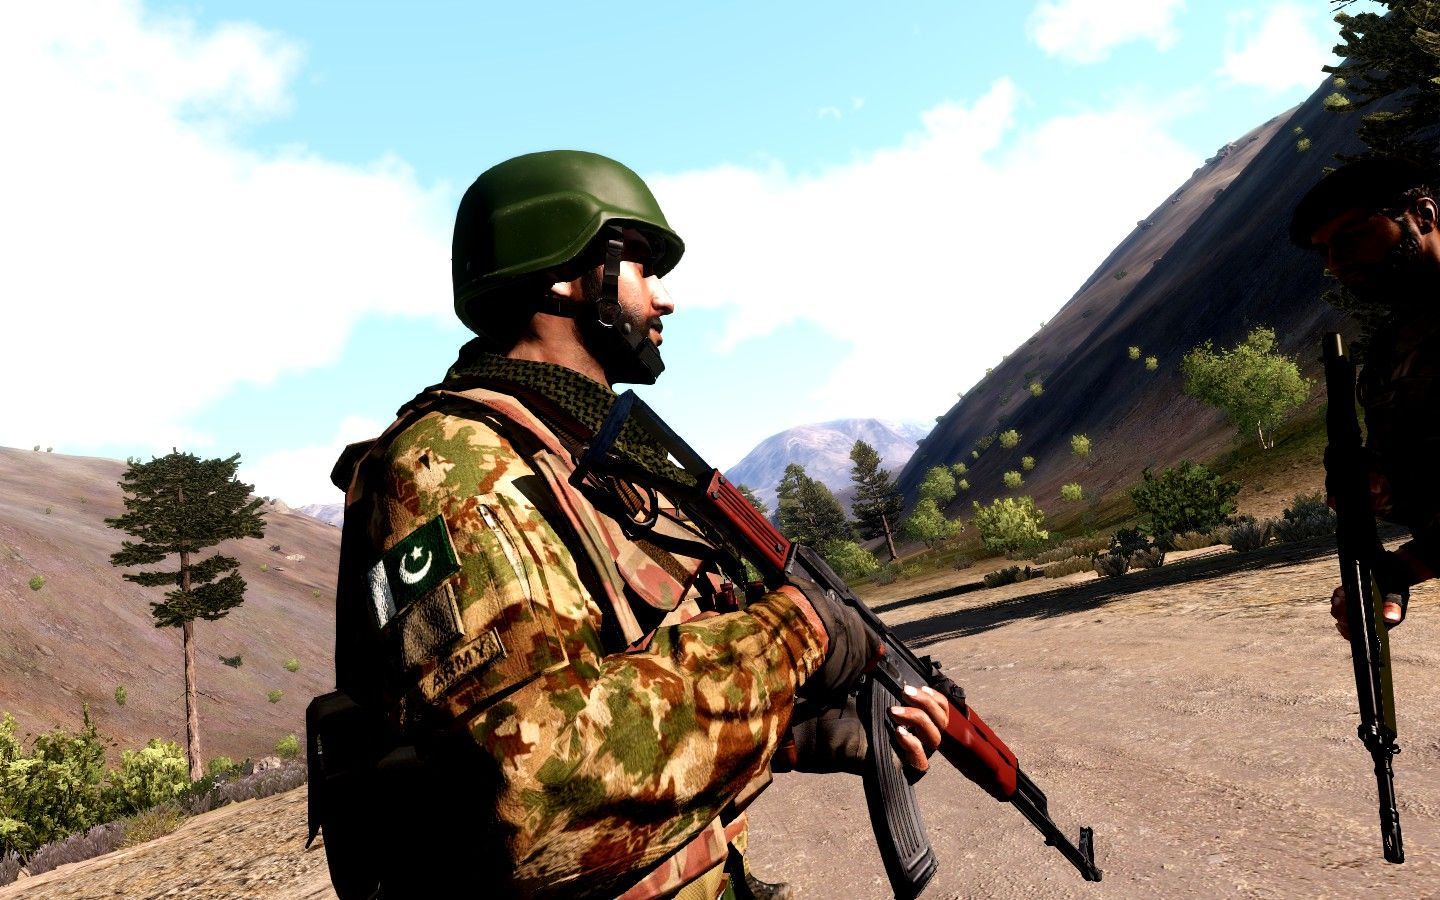gun: (571, 371, 1119, 864), (1254, 268, 1422, 861)
uniform: (288, 230, 853, 875)
